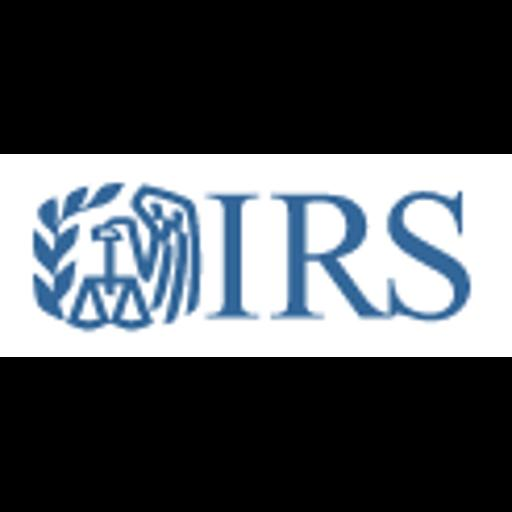IRS: (0, 154, 512, 357)
